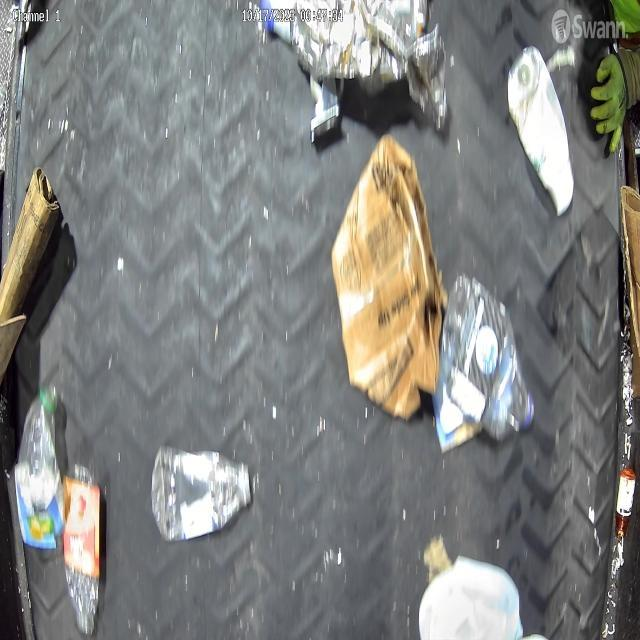milk_jug: (416, 557, 524, 640)
plastic_bottle: (440, 273, 537, 435), (150, 446, 254, 546), (14, 386, 63, 550), (62, 460, 100, 634)
